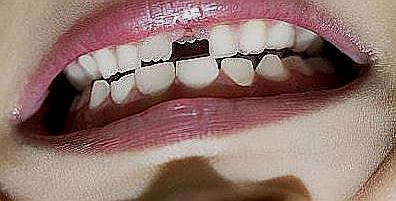Hypodontia: (167, 32, 216, 58)
